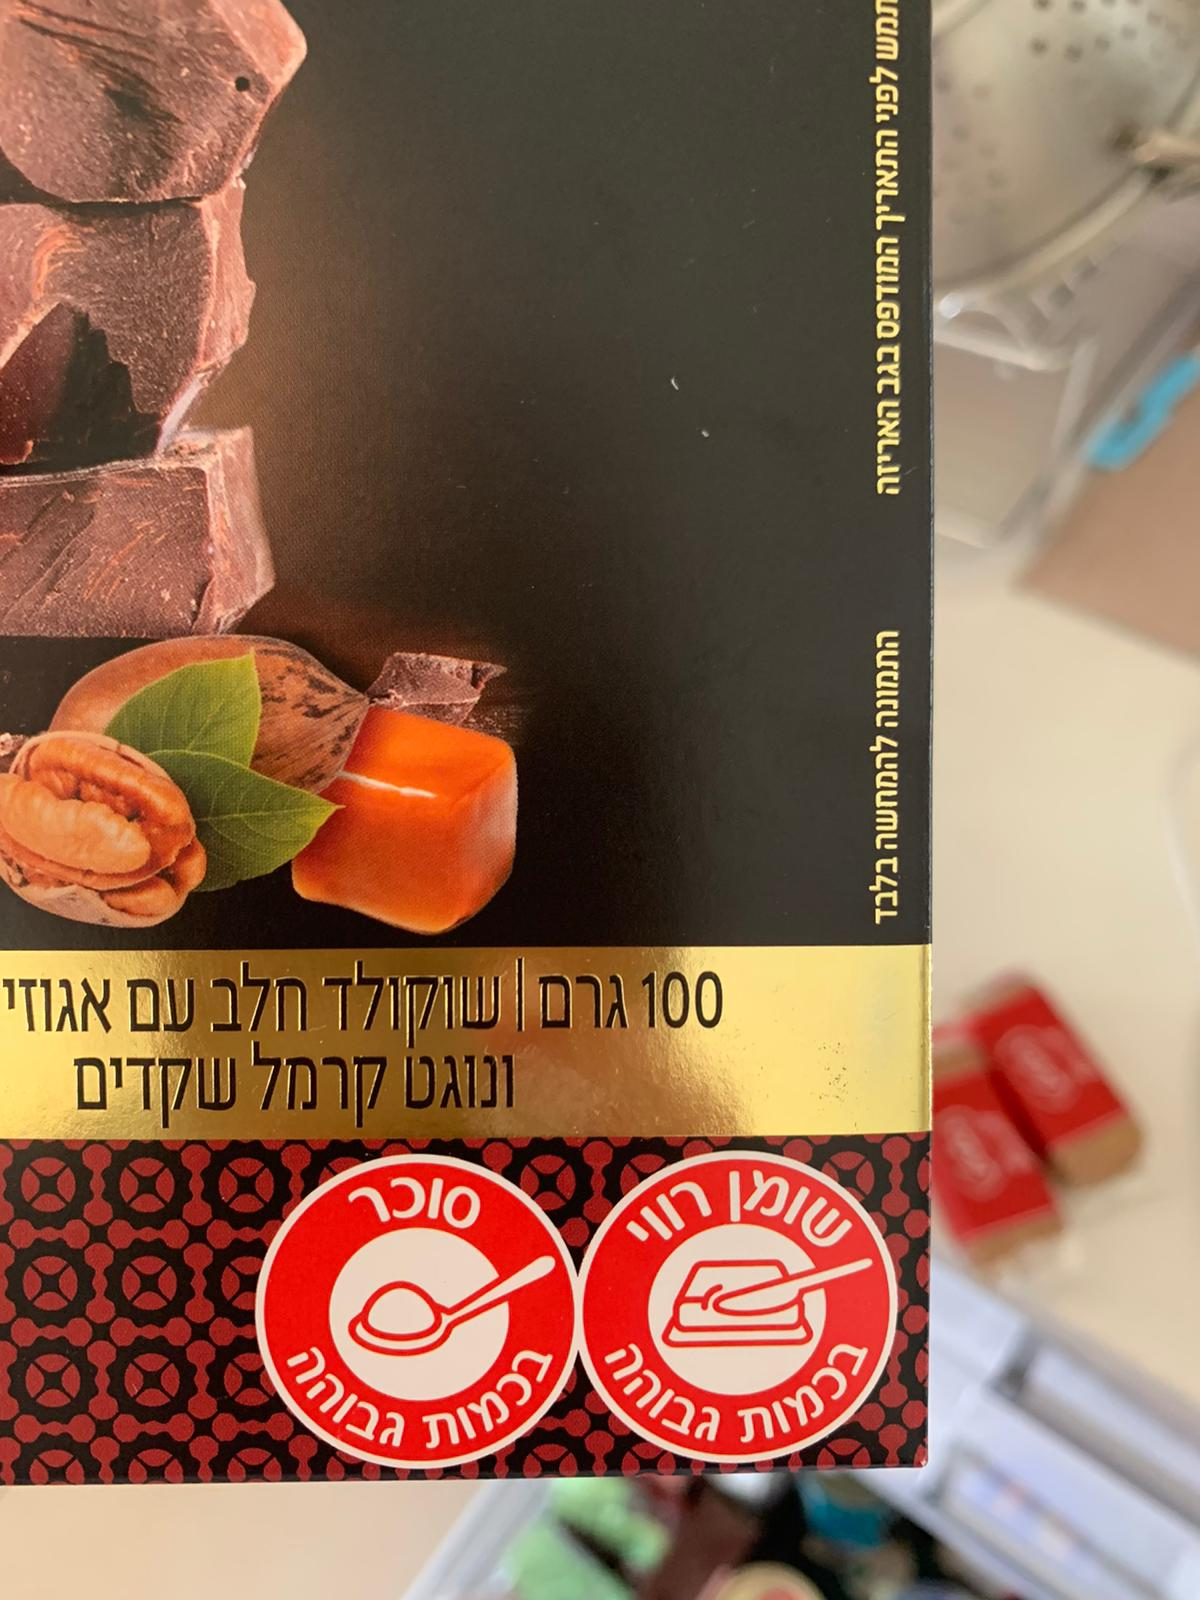fat: (572, 1151, 894, 1466)
sugar: (252, 1151, 584, 1471)
